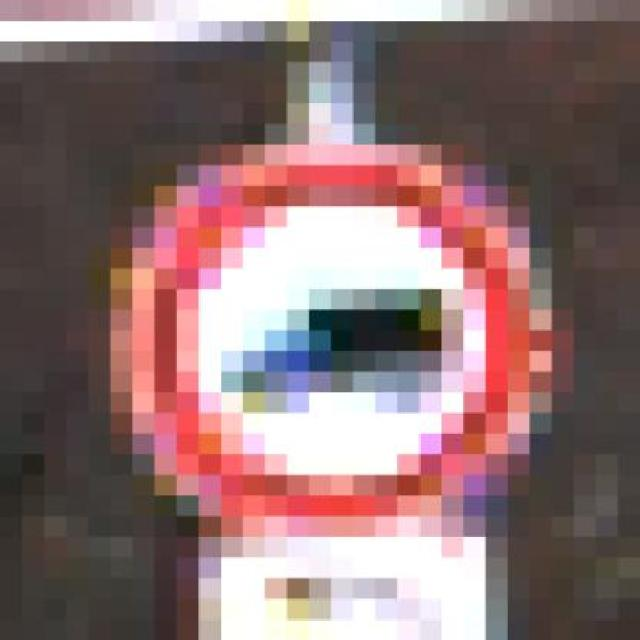Truck traffic is prohibited: (82, 136, 589, 550)
